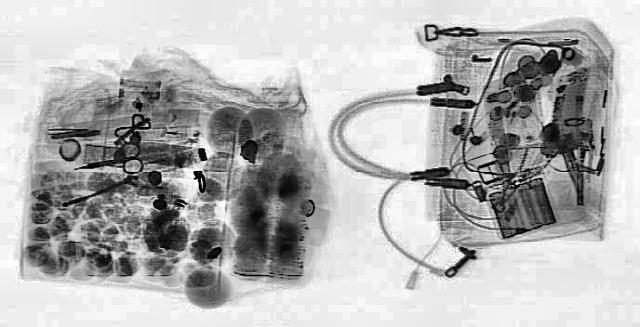Scissors: (61, 142, 157, 180)
